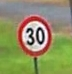limite 30: (16, 12, 53, 56)
